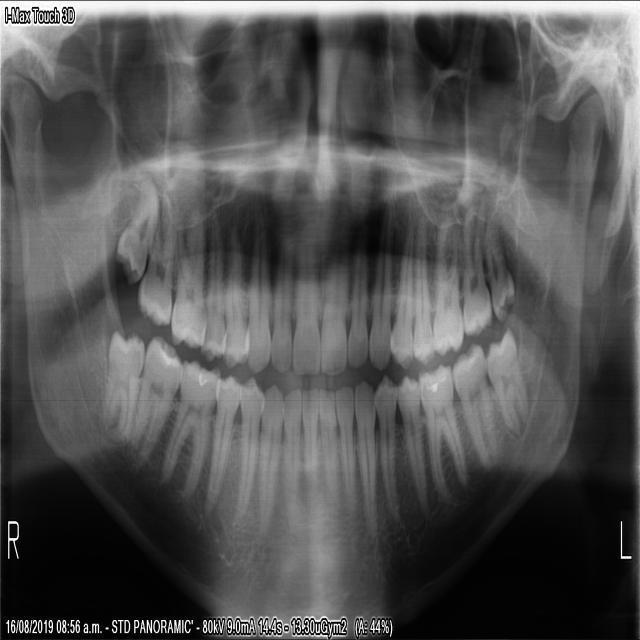LCD: (353, 383, 381, 527)
LCU: (370, 225, 393, 372)
LID: (319, 385, 343, 514), (337, 384, 359, 518)
LIU: (319, 237, 350, 378), (348, 240, 369, 374)
LMD: (451, 339, 503, 474), (421, 360, 469, 504), (483, 323, 530, 435)
LMU: (432, 214, 466, 359), (461, 212, 493, 339), (483, 207, 515, 327)
LPMD: (397, 375, 432, 513), (375, 375, 404, 523)
LPMU: (389, 232, 415, 375), (412, 229, 435, 367)
RCD: (254, 380, 285, 538)
RCU: (246, 204, 271, 374)
RID: (282, 388, 302, 519), (302, 385, 319, 502)
RIU: (291, 233, 321, 378), (271, 225, 294, 379)
RMD: (159, 358, 224, 504), (125, 330, 183, 472), (99, 324, 146, 448)
RMU: (133, 199, 175, 338), (169, 199, 206, 354), (114, 185, 158, 292)
RPMD: (204, 373, 241, 518), (234, 378, 264, 528)
RPMU: (199, 209, 226, 364), (224, 210, 249, 368)
